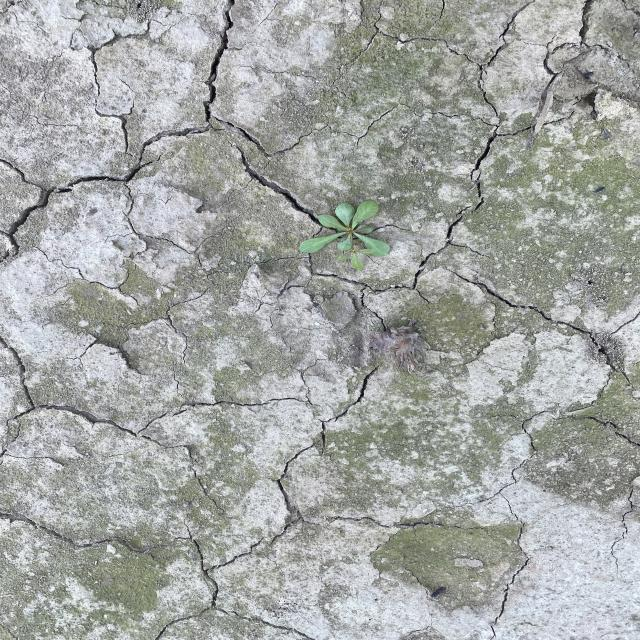Carpetweed: (295, 197, 392, 272)
